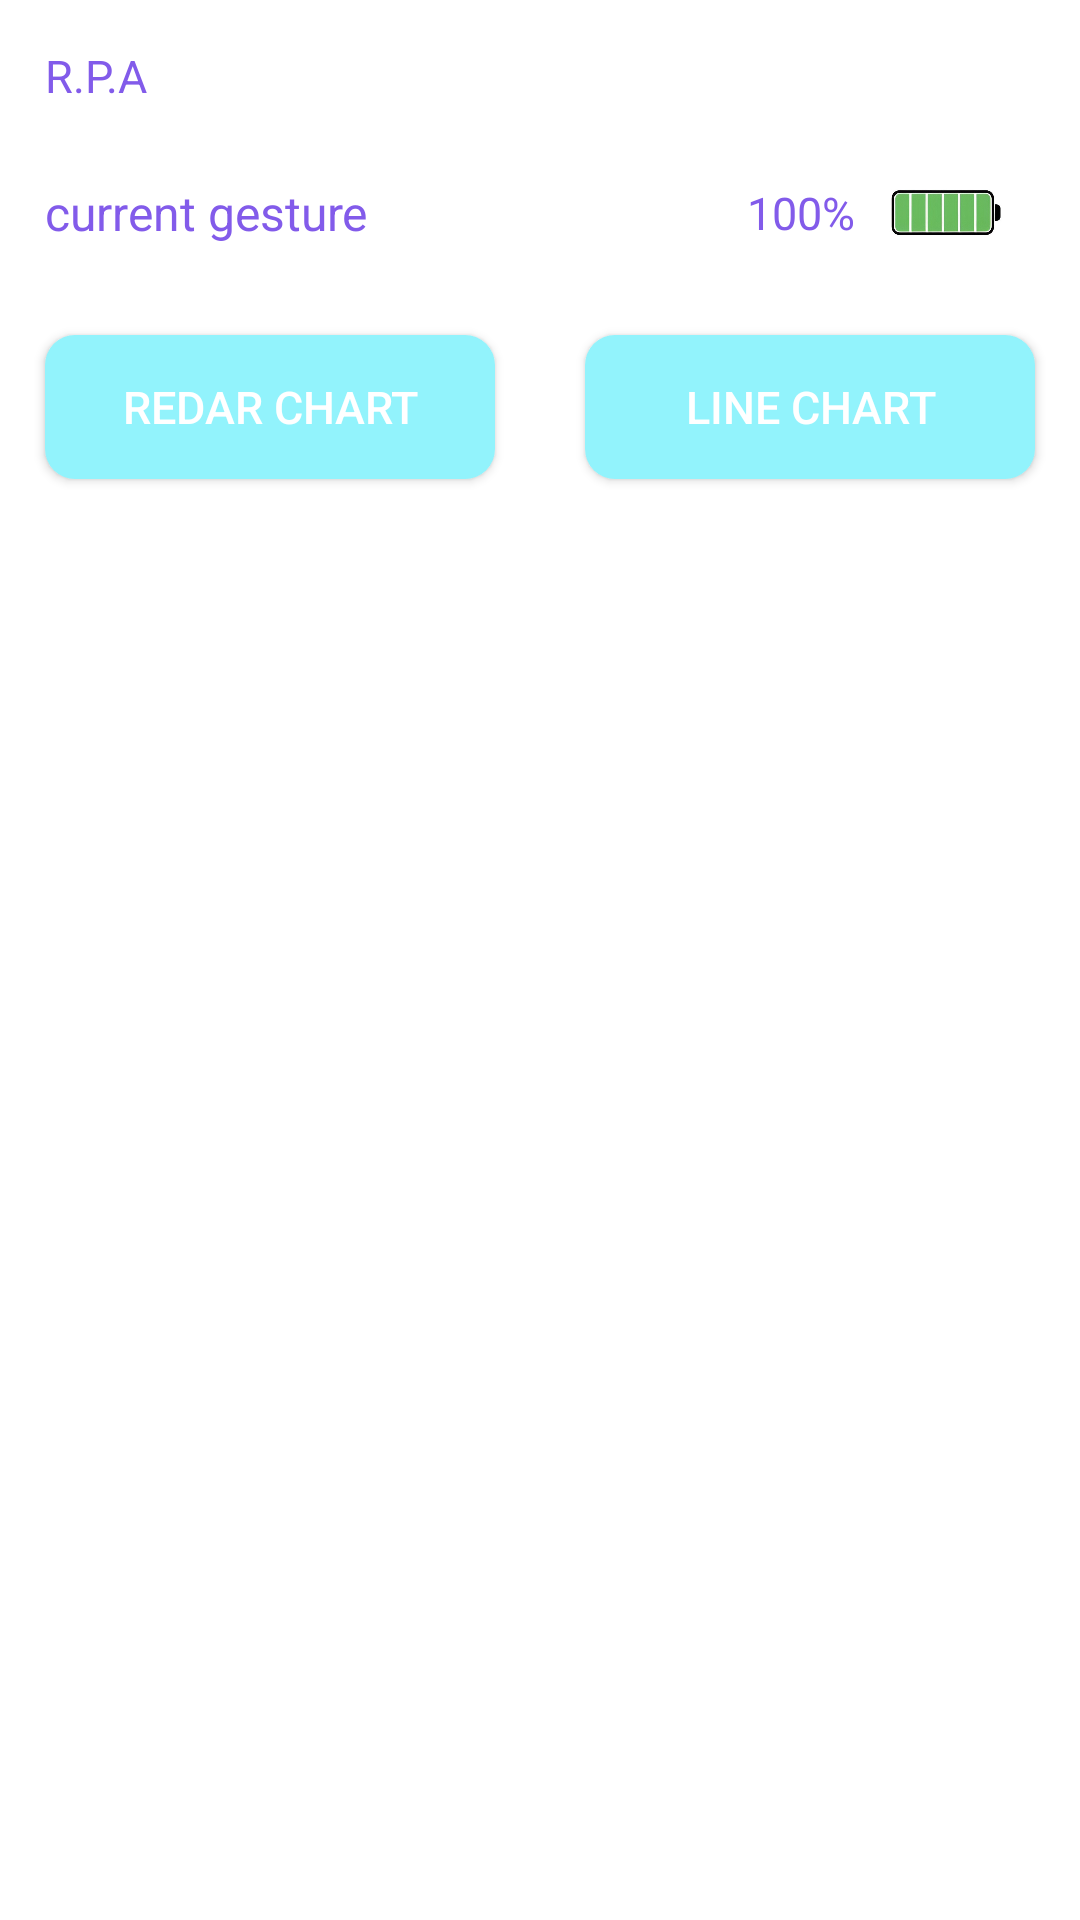

Where to tap for icons on this 1080px×1920px app screen, as [x,y]:
battery: [946,212]
